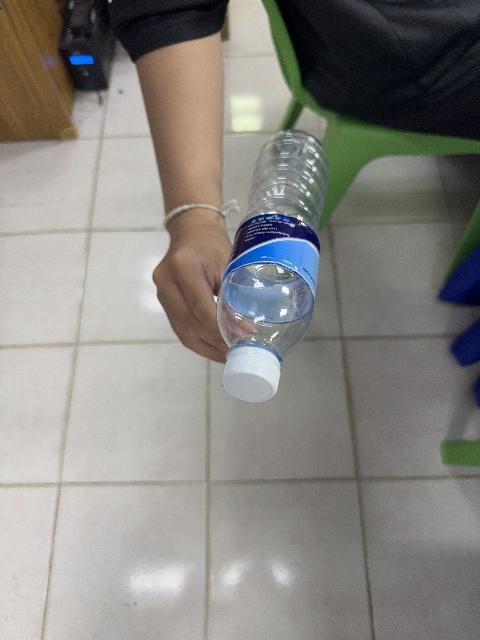bottle: (217, 130, 328, 401)
